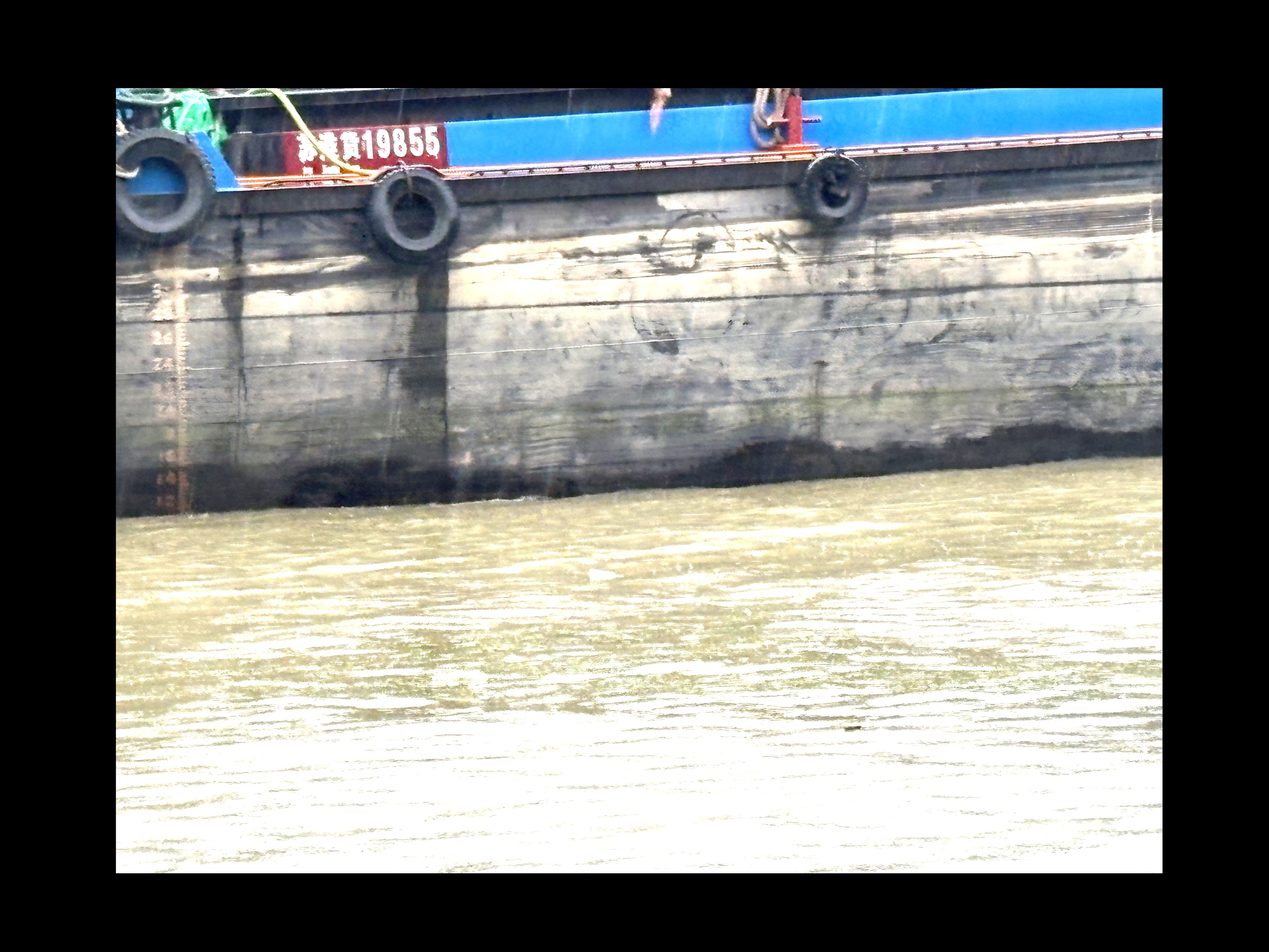Plastic wastes: (428, 669, 490, 682), (588, 566, 619, 580), (841, 717, 858, 728)
